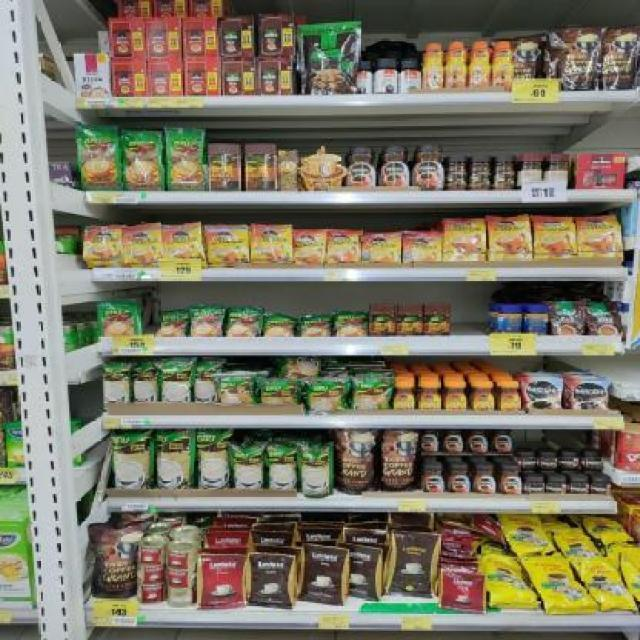Coffee: (580, 218, 622, 260), (490, 218, 532, 260), (535, 217, 576, 258), (446, 220, 486, 261), (412, 145, 444, 192), (124, 226, 161, 264), (85, 228, 122, 266), (208, 226, 247, 262), (252, 226, 291, 262), (570, 379, 608, 410), (381, 147, 410, 186), (347, 148, 376, 187), (404, 233, 442, 262), (165, 227, 200, 258), (363, 233, 400, 262), (525, 379, 560, 409), (295, 231, 326, 262), (330, 230, 359, 262), (494, 42, 513, 86), (471, 42, 490, 86), (446, 42, 465, 86), (425, 43, 442, 88), (418, 382, 440, 410), (498, 383, 520, 410), (448, 466, 470, 493), (394, 382, 415, 410), (474, 381, 494, 410), (474, 468, 495, 494), (445, 383, 465, 410), (423, 466, 443, 492), (501, 469, 521, 494), (468, 430, 487, 453), (421, 430, 438, 453), (444, 430, 461, 452), (494, 431, 511, 452), (526, 479, 546, 494), (581, 456, 604, 469), (568, 478, 589, 492), (538, 454, 556, 470), (591, 480, 611, 494), (558, 454, 577, 468), (547, 479, 564, 493), (520, 454, 536, 468)
